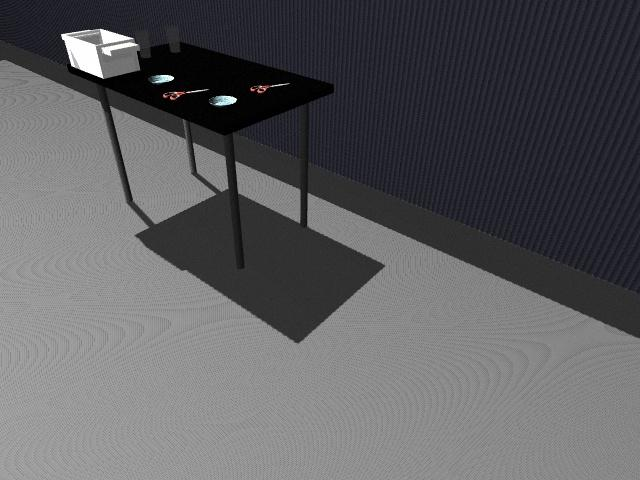cup: (134, 30, 151, 58), (165, 25, 181, 53)
plate: (209, 95, 237, 106), (148, 74, 174, 84)
scissors: (164, 89, 209, 100), (251, 83, 289, 93)
